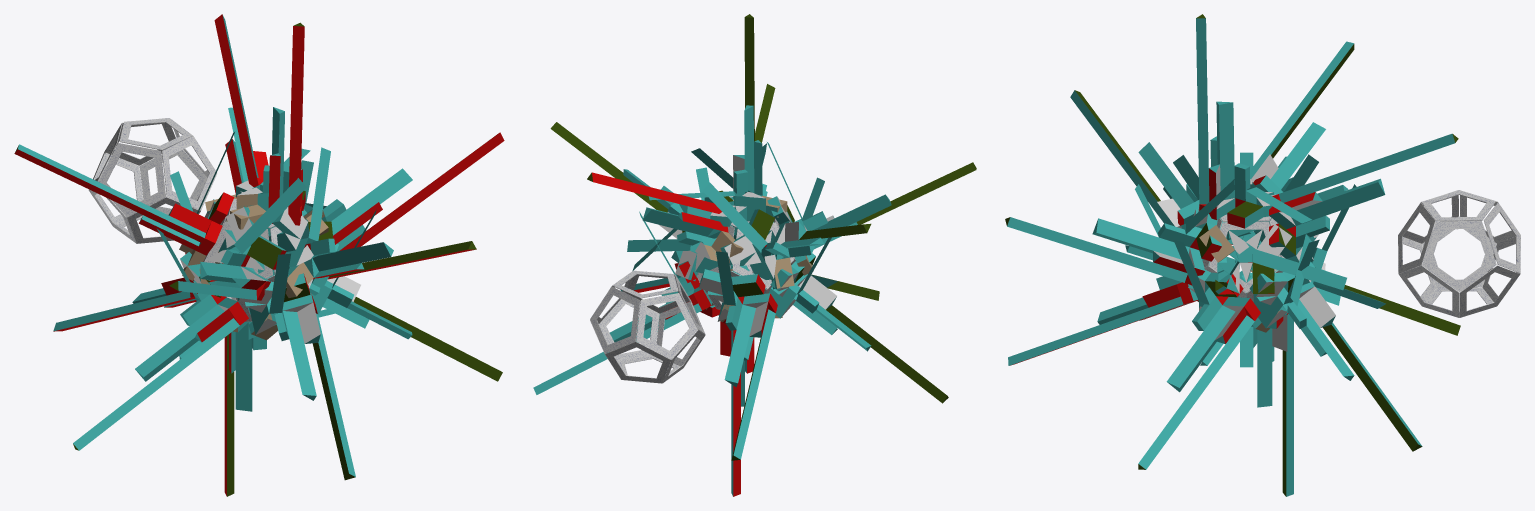
The model's file is complex_geometry_sculpture.obj.
3 views of the same model, side by side, from view 1: azimuth 30°, elevation 25°; view 2: azimuth 150°, elevation 25°; view 3: azimuth 270°, elevation 25° (orthographic). The views are drawn at different scales.
Parts seen in each view (by area): view 1: instance_9_ID928, instance_0_ID28, instance_11_ID1148, instance_2_ID158, instance_3.005_ID300, instance_5.005_ID520, instance_10.005_ID1070, instance_7.005_ID740, instance_4_ID378, instance_10_ID1038, instance_12_ID1258, instance_8_ID818 (+19 smaller); view 2: instance_8_ID818, instance_3_ID268, instance_5_ID488, instance_7_ID708, instance_9_ID928, instance_6_ID598, instance_2_ID158, instance_7.005_ID740, instance_9.011_ID1002, instance_12.005_ID1290, instance_15_ID1379, instance_10.011_ID1112 (+17 smaller); view 3: instance_3_ID268, instance_4_ID378, instance_11_ID1148, instance_7_ID708, instance_6_ID598, instance_2_ID158, instance_5_ID488, instance_12_ID1258, instance_0_ID28, instance_10_ID1038, instance_23_ID1515, instance_6.011_ID672 (+12 smaller).
Part boxes in pixels (bbox=[...]): instance_9_ID928: bbox=[73, 229, 239, 450]; instance_0_ID28: bbox=[237, 253, 355, 476]; instance_11_ID1148: bbox=[268, 147, 393, 277]; instance_2_ID158: bbox=[178, 178, 306, 300]; instance_3.005_ID300: bbox=[268, 26, 304, 225]; instance_5.005_ID520: bbox=[14, 149, 222, 255]; instance_10.005_ID1070: bbox=[333, 132, 504, 250]; instance_7.005_ID740: bbox=[214, 14, 268, 197]; instance_4_ID378: bbox=[289, 209, 412, 339]; instance_10_ID1038: bbox=[301, 168, 412, 251]; instance_12_ID1258: bbox=[231, 307, 334, 411]; instance_8_ID818: bbox=[53, 171, 255, 331]; instance_8_ID818: bbox=[699, 251, 775, 459]; instance_3_ID268: bbox=[648, 105, 777, 237]; instance_5_ID488: bbox=[702, 183, 823, 289]; instance_7_ID708: bbox=[627, 204, 720, 280]; instance_9_ID928: bbox=[765, 237, 871, 351]; instance_6_ID598: bbox=[533, 211, 712, 394]; instance_2_ID158: bbox=[767, 142, 891, 263]; instance_7.005_ID740: bbox=[592, 172, 728, 232]; instance_9.011_ID1002: bbox=[826, 305, 948, 403]; instance_12.005_ID1290: bbox=[720, 319, 754, 496]; instance_15_ID1379: bbox=[636, 293, 697, 359]; instance_10.011_ID1112: bbox=[550, 122, 667, 212]; instance_3_ID268: bbox=[1196, 18, 1311, 238]; instance_4_ID378: bbox=[1138, 239, 1254, 469]; instance_11_ID1148: bbox=[1007, 179, 1234, 282]; instance_7_ID708: bbox=[1255, 134, 1454, 305]; instance_6_ID598: bbox=[1242, 239, 1422, 446]; instance_2_ID158: bbox=[1070, 90, 1251, 239]; instance_5_ID488: bbox=[1250, 41, 1353, 242]; instance_12_ID1258: bbox=[1238, 295, 1293, 496]; instance_0_ID28: bbox=[1008, 184, 1227, 365]; instance_10_ID1038: bbox=[1215, 230, 1346, 293]; instance_23_ID1515: bbox=[1422, 221, 1496, 291]; instance_6.011_ID672: bbox=[1323, 324, 1422, 451].
Bounding box in the file's own units: 19.31 × 20.93 × 19.92.
